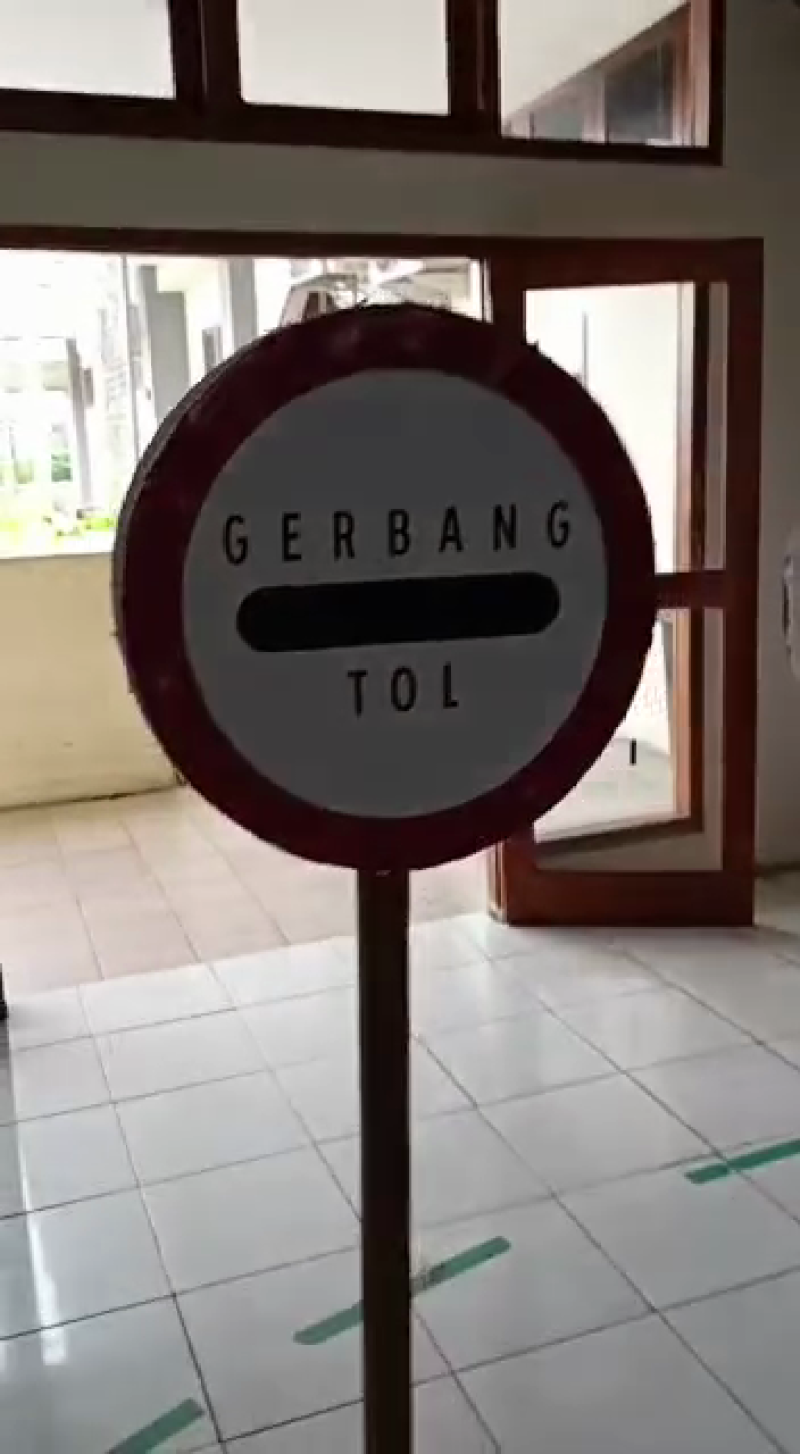gerbang tol: (102, 299, 676, 867)
